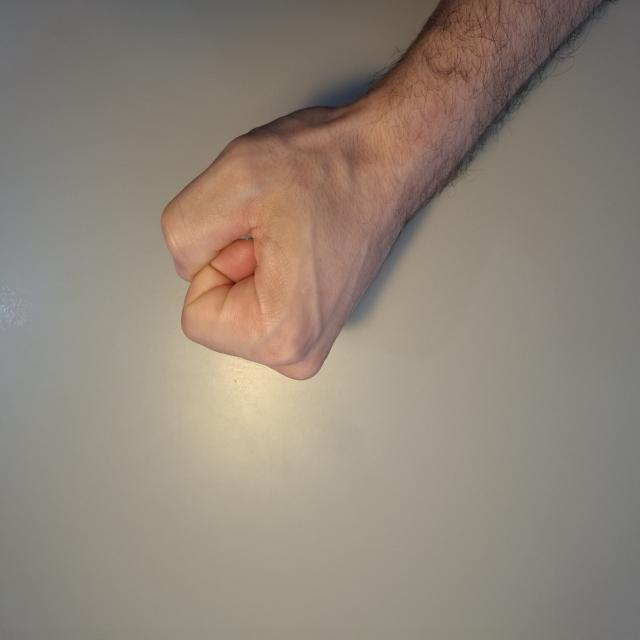glove_off: (158, 81, 432, 387)
